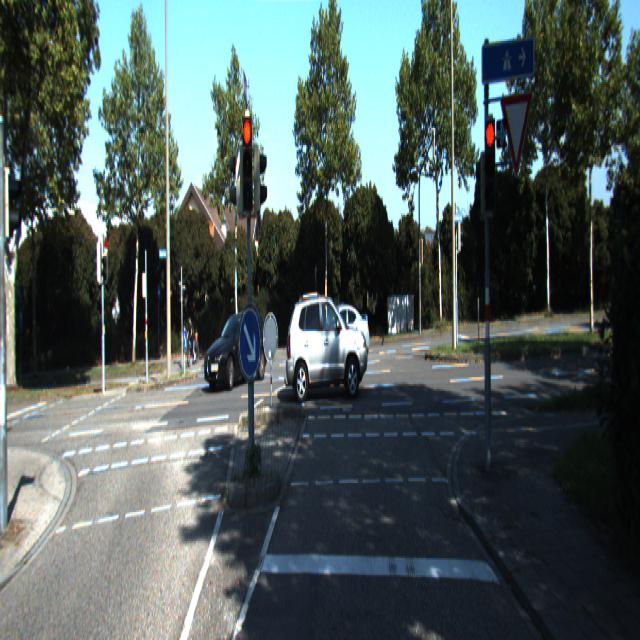Car: (285, 291, 369, 400), (202, 308, 271, 392), (306, 300, 370, 369)
